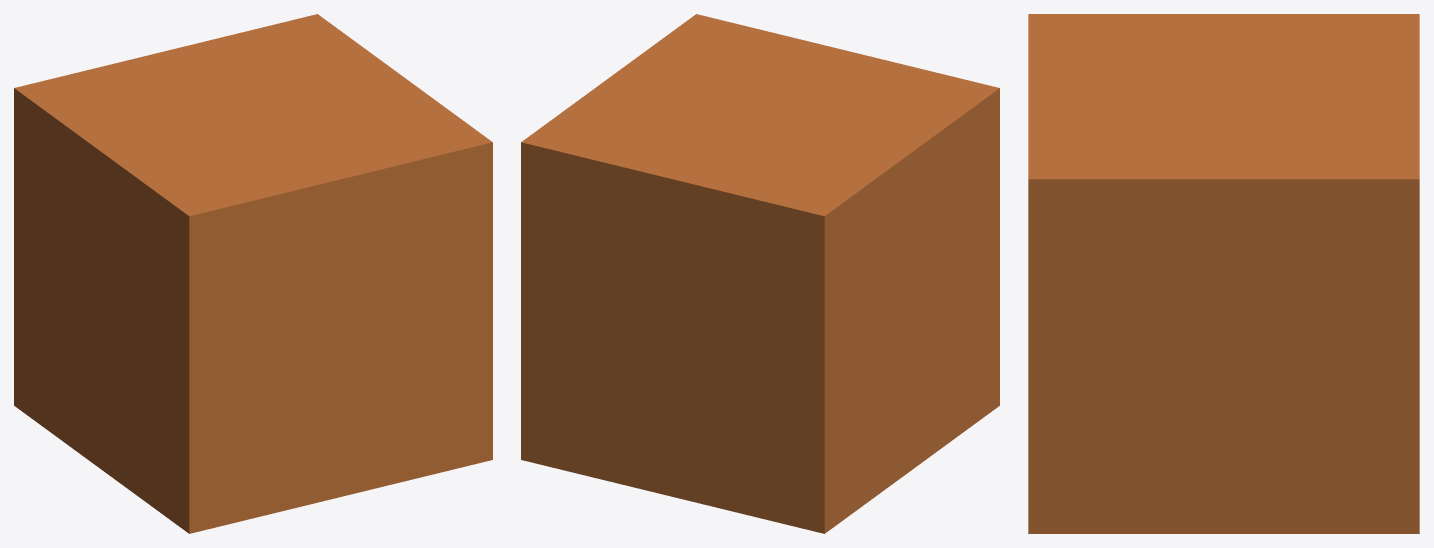
File: bad_too_many_tris.glb
3 views of the same model, side by side, from view 1: azimuth 30°, elevation 25°; view 2: azimuth 150°, elevation 25°; view 3: azimuth 270°, elevation 25° (orthographic). The views are drawn at different scales.
Visible parts, largest first — view 1: prop_crate; view 2: prop_crate; view 3: prop_crate.
Boxes of the visible parts, x1,y1,x2,y2 form: prop_crate: (14,14,492,533); prop_crate: (521,14,999,533); prop_crate: (1028,14,1419,533).
Size of the model in its own units: 1 by 1 by 1.
1 material, 1 textured.
